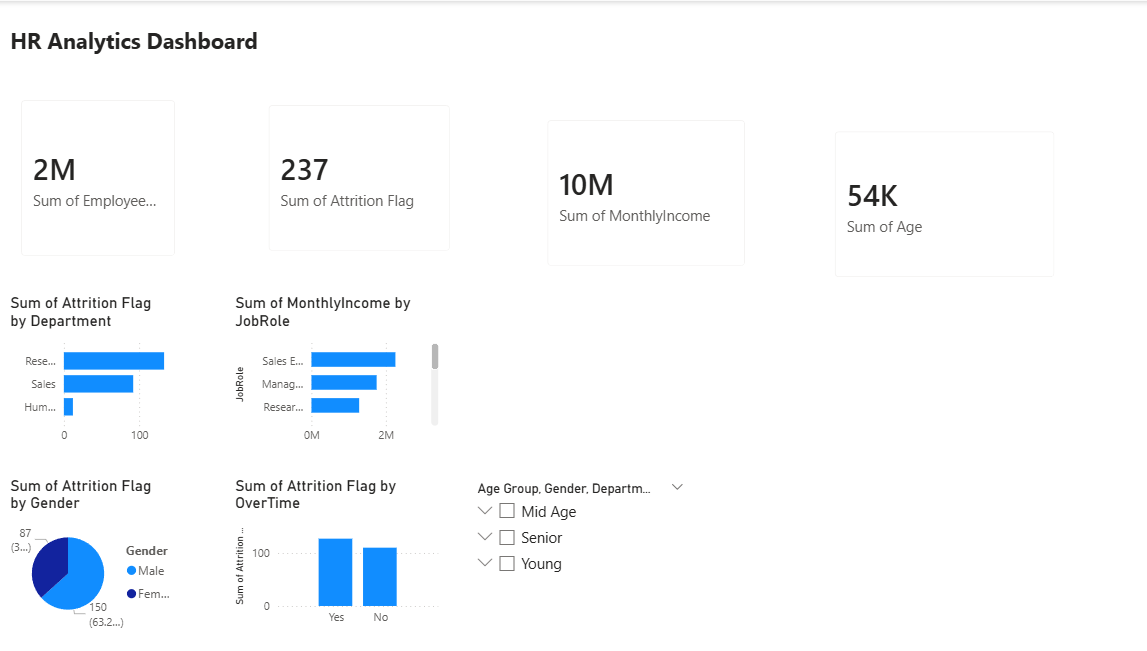

The dashboard page shown, as its layout file describes it:
{"tool":"powerbi","page":{"name":"Page 1","canvas":[1280,720],"ordinal":0},"visuals":[{"type":"cardVisual","fields":{"Data":["Sum(WA_Fn-UseC_-HR-Employee-Attriti.EmployeeNumber)"]},"box":[9.6,91.9,203.1,205.8],"z":0},{"type":"cardVisual","fields":{"Data":["Sum(WA_Fn-UseC_-HR-Employee-Attriti.MonthlyIncome)"]},"box":[587.3,113.9,251.1,194.9],"z":1},{"type":"cardVisual","fields":{"Data":["Sum(WA_Fn-UseC_-HR-Employee-Attriti.Age)"]},"box":[902.9,126.2,275.8,194.9],"z":2},{"type":"cardVisual","fields":{"Data":["Sum(WA_Fn-UseC_-HR-Employee-Attriti.Attrition Flag)"]},"box":[281.3,97.4,233.3,194.9],"z":3},{"type":"clusteredBarChart","fields":{"Category":["WA_Fn-UseC_-HR-Employee-Attriti.Department"],"Y":["Sum(WA_Fn-UseC_-HR-Employee-Attriti.Attrition Flag)"]},"box":[9.6,321.1,203.1,174.3],"z":4},{"type":"pieChart","fields":{"Y":["Sum(WA_Fn-UseC_-HR-Employee-Attriti.Attrition Flag)"],"Category":["WA_Fn-UseC_-HR-Employee-Attriti.Gender"]},"box":[9.6,521.4,203.1,172.9],"z":5},{"type":"clusteredBarChart","fields":{"Y":["Sum(WA_Fn-UseC_-HR-Employee-Attriti.MonthlyIncome)"],"Category":["WA_Fn-UseC_-HR-Employee-Attriti.JobRole"]},"box":[256.6,321.1,233.3,174.3],"z":6},{"type":"clusteredColumnChart","fields":{"Y":["Sum(WA_Fn-UseC_-HR-Employee-Attriti.Attrition Flag)"],"Category":["WA_Fn-UseC_-HR-Employee-Attriti.OverTime"]},"box":[256.6,521.4,233.3,172.9],"z":7},{"type":"slicer","fields":{"Values":["WA_Fn-UseC_-HR-Employee-Attriti.Age Group","WA_Fn-UseC_-HR-Employee-Attriti.Gender","WA_Fn-UseC_-HR-Employee-Attriti.Department"]},"box":[514.6,521.4,251.1,174.3],"z":8},{"type":"textbox","box":[9.6,22,462.4,54.9],"z":9}]}

Visuals, with their boxes in screenshot pixels (x1, y1, x2, y2), scaled from the page's 1280x720 canvas onto the 1147x651 screenshot:
cardVisual - Sum(WA_Fn-UseC_-HR-Employee-Attriti.EmployeeNumber): rect(9, 83, 191, 269)
cardVisual - Sum(WA_Fn-UseC_-HR-Employee-Attriti.MonthlyIncome): rect(526, 103, 751, 279)
cardVisual - Sum(WA_Fn-UseC_-HR-Employee-Attriti.Age): rect(809, 114, 1056, 290)
cardVisual - Sum(WA_Fn-UseC_-HR-Employee-Attriti.Attrition Flag): rect(252, 88, 461, 264)
clusteredBarChart - WA_Fn-UseC_-HR-Employee-Attriti.Department x Sum(WA_Fn-UseC_-HR-Employee-Attriti.Attrition Flag): rect(9, 290, 191, 448)
pieChart - Sum(WA_Fn-UseC_-HR-Employee-Attriti.Attrition Flag) x WA_Fn-UseC_-HR-Employee-Attriti.Gender: rect(9, 471, 191, 628)
clusteredBarChart - Sum(WA_Fn-UseC_-HR-Employee-Attriti.MonthlyIncome) x WA_Fn-UseC_-HR-Employee-Attriti.JobRole: rect(230, 290, 439, 448)
clusteredColumnChart - Sum(WA_Fn-UseC_-HR-Employee-Attriti.Attrition Flag) x WA_Fn-UseC_-HR-Employee-Attriti.OverTime: rect(230, 471, 439, 628)
slicer - WA_Fn-UseC_-HR-Employee-Attriti.Age Group x WA_Fn-UseC_-HR-Employee-Attriti.Gender: rect(461, 471, 686, 629)
textbox: rect(9, 20, 423, 70)
